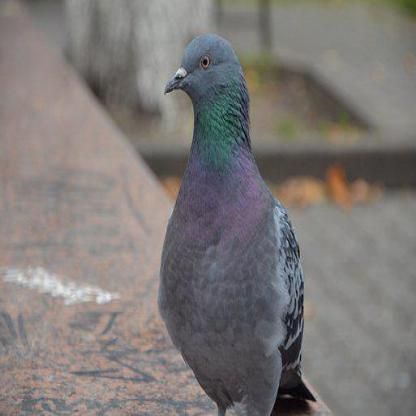Rock Pigeon: (145, 29, 315, 409)
